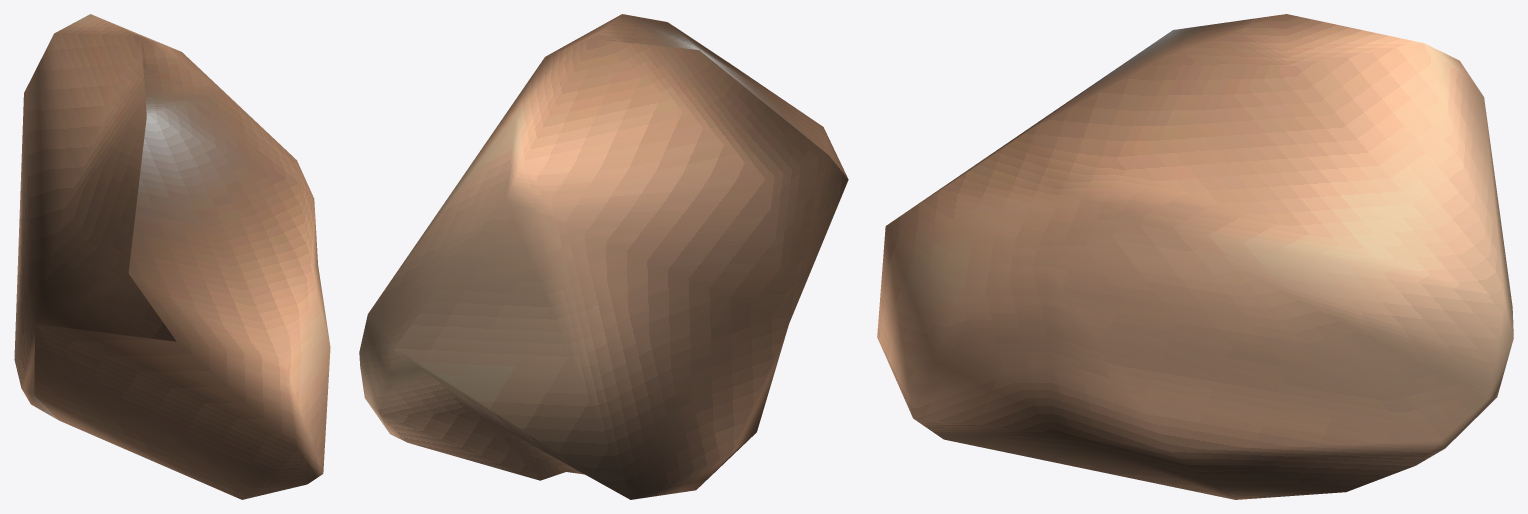
File: STONE_THROW_BILBO.fbx
The picture shows the model from 3 angles, left to right: view 1: azimuth 30°, elevation 25°; view 2: azimuth 150°, elevation 25°; view 3: azimuth 270°, elevation 25°; orthographic projection. The views are drawn at different scales.
Visible parts, largest first — view 1: STONE_THROW_BILBO; view 2: STONE_THROW_BILBO; view 3: STONE_THROW_BILBO.
Boxes of the visible parts, x1,y1,x2,y2 form: STONE_THROW_BILBO: [14, 14, 330, 499]; STONE_THROW_BILBO: [359, 14, 848, 499]; STONE_THROW_BILBO: [877, 14, 1513, 499].
Size of the model in its own units: 687 by 1031 by 1289.
Materials: 1 (1 with a texture image).
